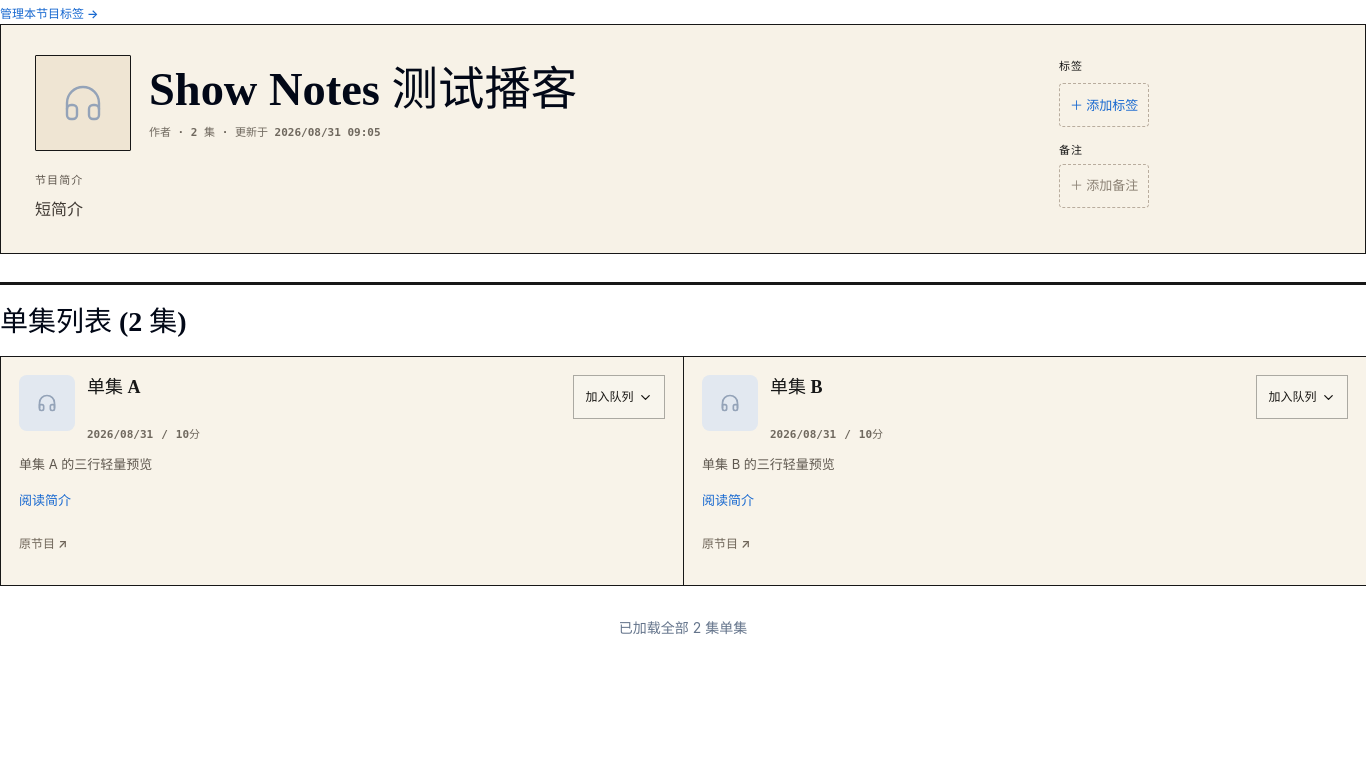
Scenario: podcast detail Show Notes user flow › lets the 390px path expand the selected episode without prefetching others
This screenshot has width=1366, height=768.
Click the button "阅读简介" below "单集 A 的三行轻量预览" at (45, 500), box [19, 478, 71, 522]
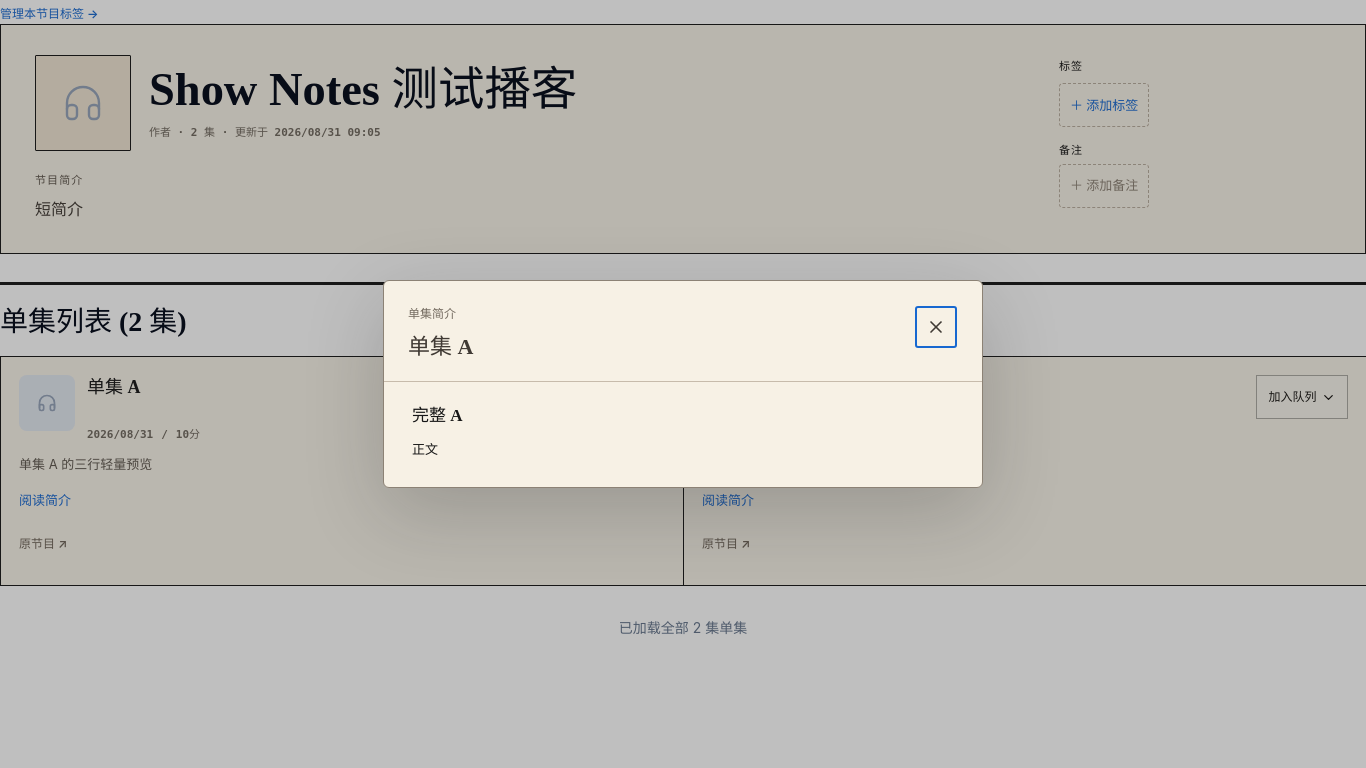
Expected: the number of links "原节目 ↗" is 2, [19, 536, 67, 551]; [702, 536, 750, 551]
Expected: the heading "完整 A" is shown, [412, 406, 462, 425]
